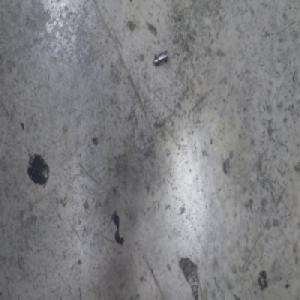Bolt: (153, 48, 169, 67)
